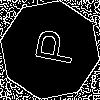P: (25, 25, 77, 67)
